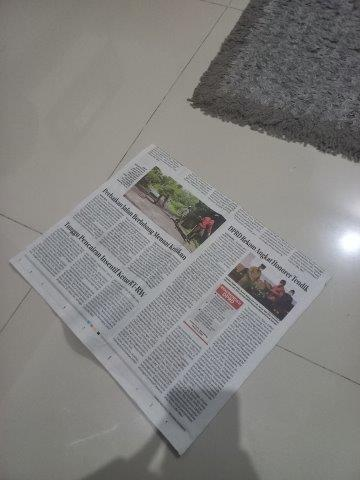kertas: (9, 143, 327, 460)
